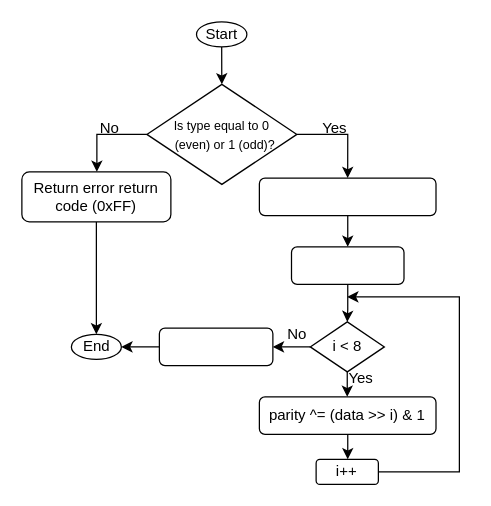
This 491x506 diagram has some shape labels left out. The shapes that lost their labels are listed below. From the top down, each one's centre as x and y in pixels, then its label:
point 347,196: parity = (data & 1) ^ type
point 347,265: Counter i = 1
point 215,346: Return parity
